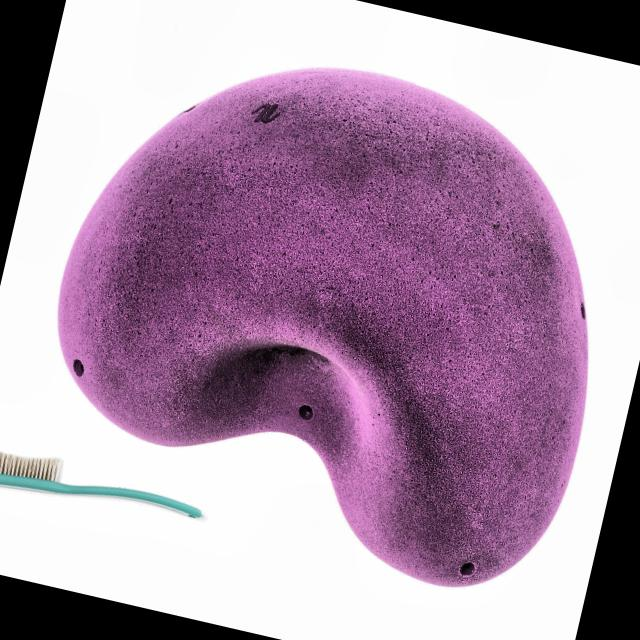Hold: (51, 56, 609, 613)
